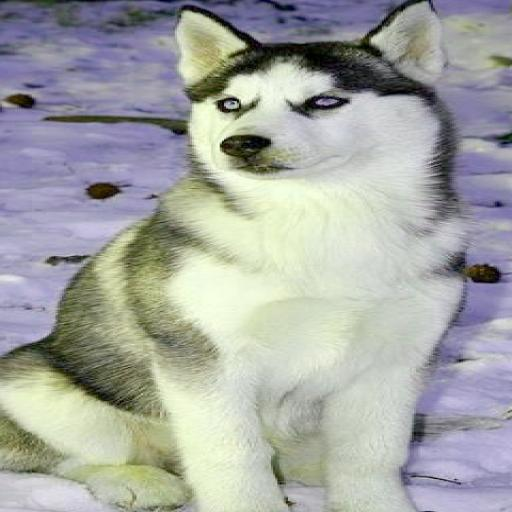dog_face: (165, 2, 460, 180)
